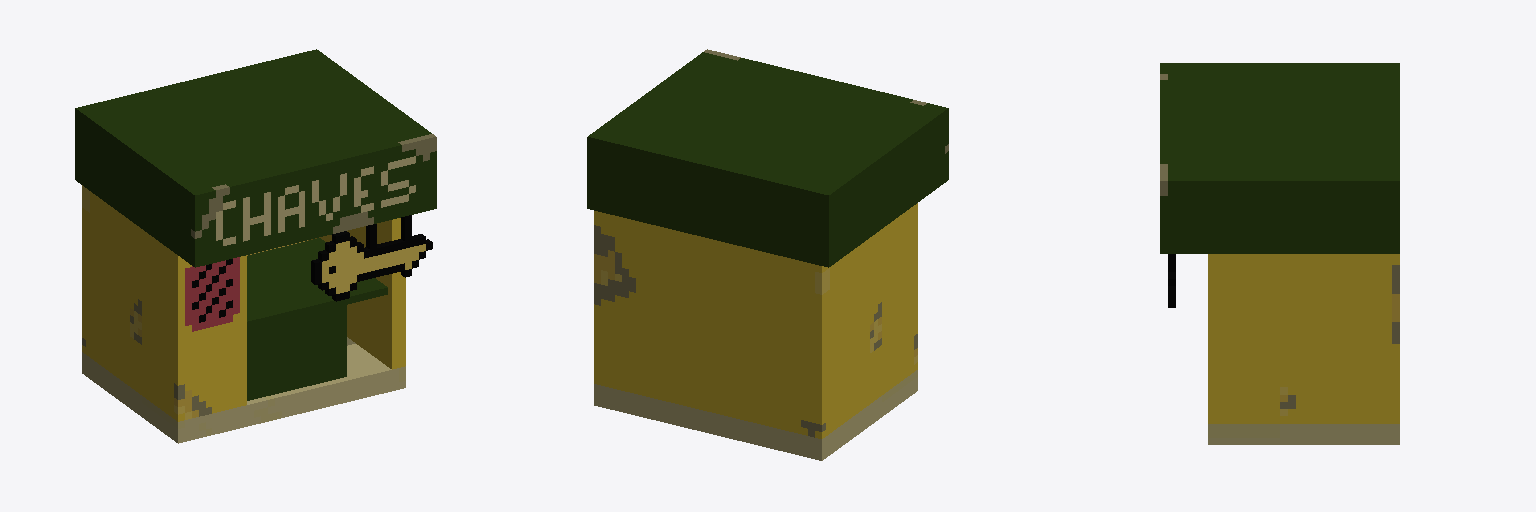
3 views of the same model, side by side, from view 1: azimuth 30°, elevation 25°; view 2: azimuth 150°, elevation 25°; view 3: azimuth 270°, elevation 25° (orthographic).
Visible parts, largest first — view 1: object 1; view 2: object 1; view 3: object 1.
Boxes of the visible parts, box(x1,y1,x2,y2) form: object 1: box(75, 49, 436, 443); object 1: box(587, 49, 948, 460); object 1: box(1160, 63, 1399, 444).
Size of the model in its own units: 3.5 by 3.7 by 3.
1 materials, 1 textured.